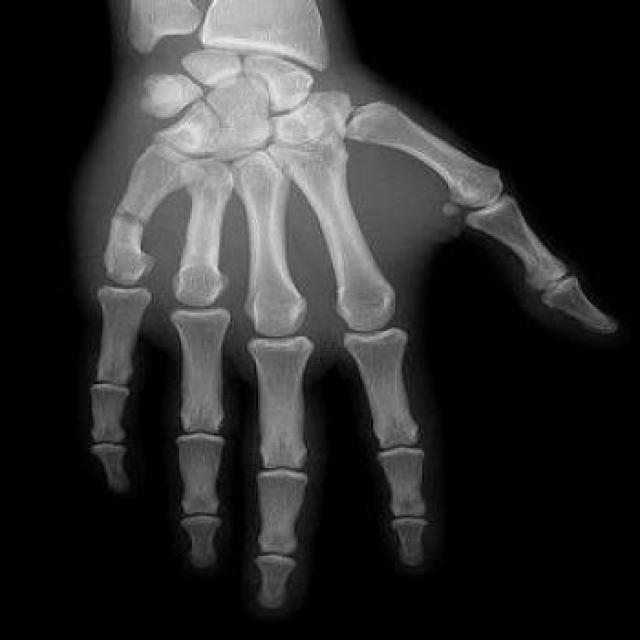fracture: (100, 201, 169, 234)
